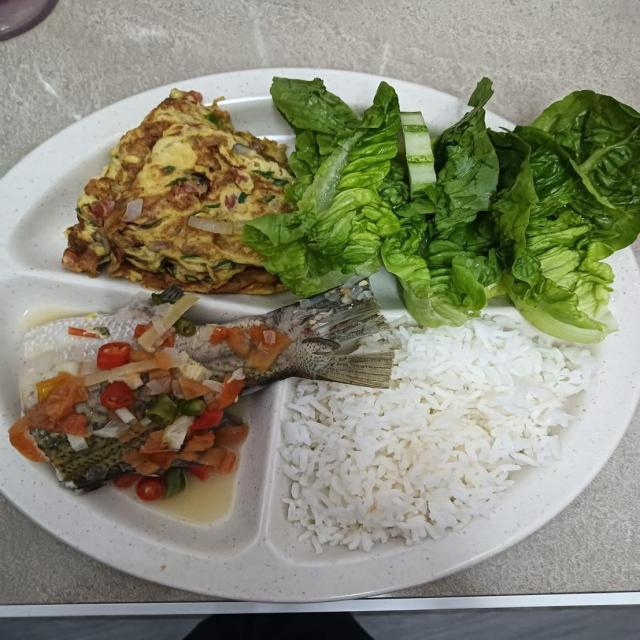Egg: (53, 94, 315, 294)
Fish: (22, 278, 391, 494)
Plate: (0, 101, 639, 600), (183, 74, 290, 136)
Rice: (284, 315, 604, 559)
Vegetables: (249, 75, 639, 345)
